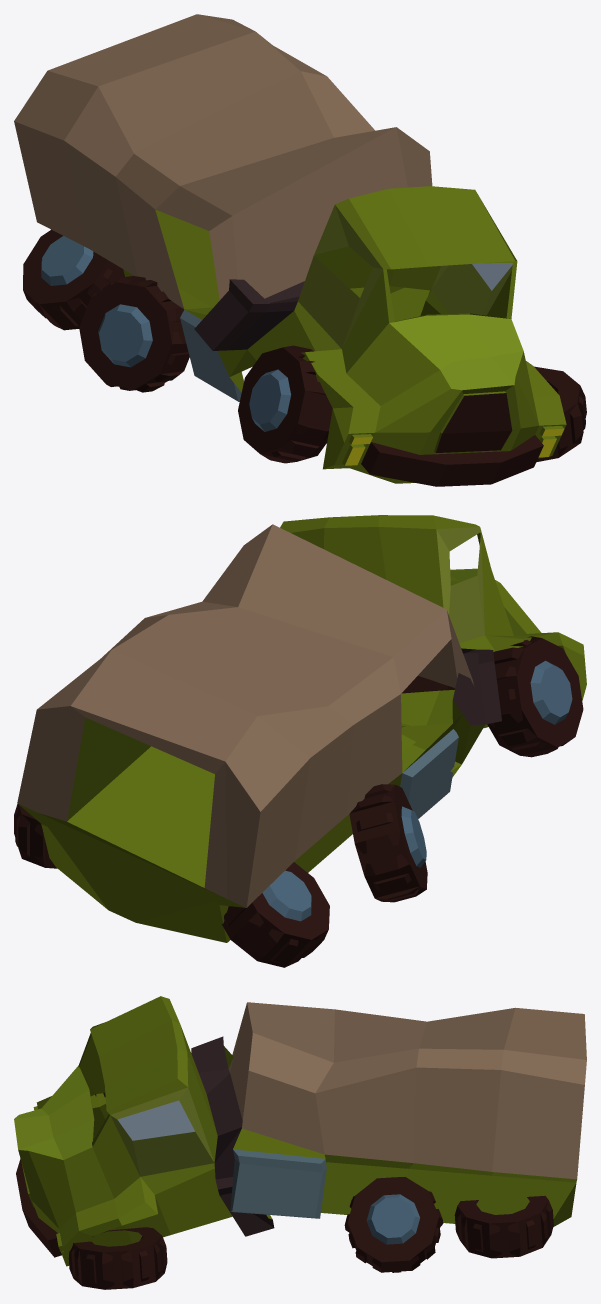
The model's file is URALTruckDestroyed1.fbx.
The picture shows the model from 3 angles, top to bottom: view 1: azimuth 30°, elevation 25°; view 2: azimuth 150°, elevation 25°; view 3: azimuth 270°, elevation 25°; orthographic projection. The views are drawn at different scales.
Parts seen in each view (by area): view 1: UralRunko, Rengas.000, Rengas.004, Rengas.005, Rengas.001; view 2: UralRunko, Rengas.004, Rengas.005, Rengas.000, Rengas.007; view 3: UralRunko, Rengas.006, Rengas.007, Rengas.001.
Boxes of the visible parts, bbox=[...] form: UralRunko: bbox=[14, 14, 566, 486]; Rengas.000: bbox=[79, 276, 189, 392]; Rengas.004: bbox=[238, 345, 332, 463]; Rengas.005: bbox=[23, 229, 124, 330]; Rengas.001: bbox=[534, 366, 586, 462]; UralRunko: bbox=[17, 515, 586, 942]; Rengas.004: bbox=[487, 636, 583, 757]; Rengas.005: bbox=[222, 862, 329, 967]; Rengas.000: bbox=[349, 784, 427, 902]; Rengas.007: bbox=[14, 803, 57, 868]; UralRunko: bbox=[14, 996, 586, 1266]; Rengas.006: bbox=[344, 1177, 443, 1272]; Rengas.007: bbox=[454, 1195, 553, 1258]; Rengas.001: bbox=[68, 1227, 167, 1289].
Bounding box in the file's own units: 288 × 228 × 516.
